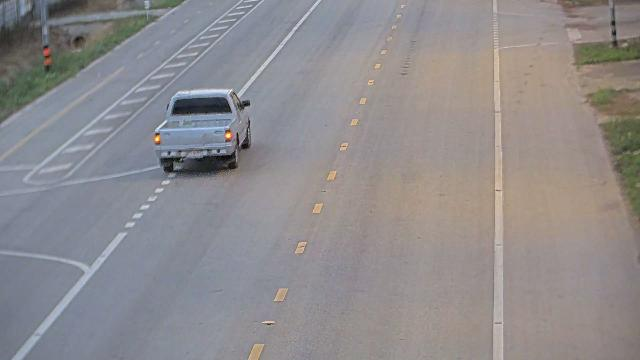pickup-truck: (153, 87, 252, 172)
